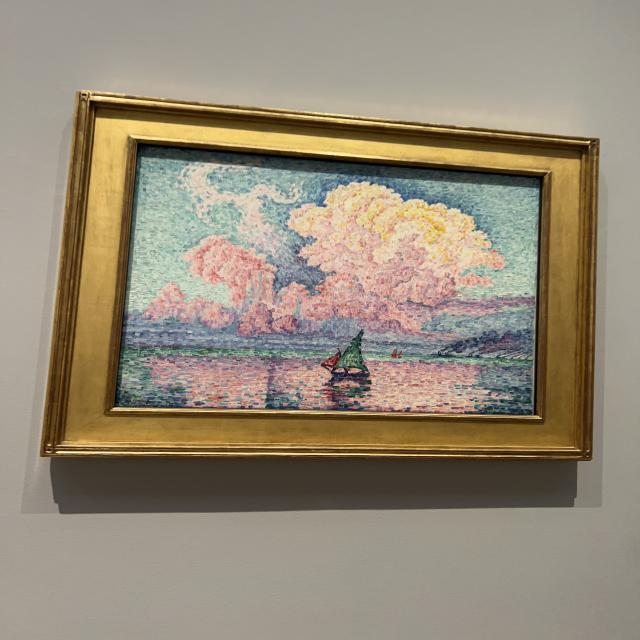sunrise: (121, 152, 538, 413)
